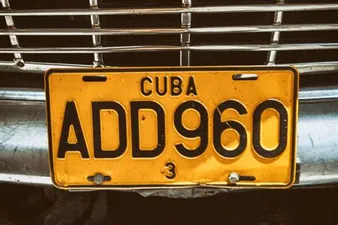number_plate: (37, 60, 307, 194)
